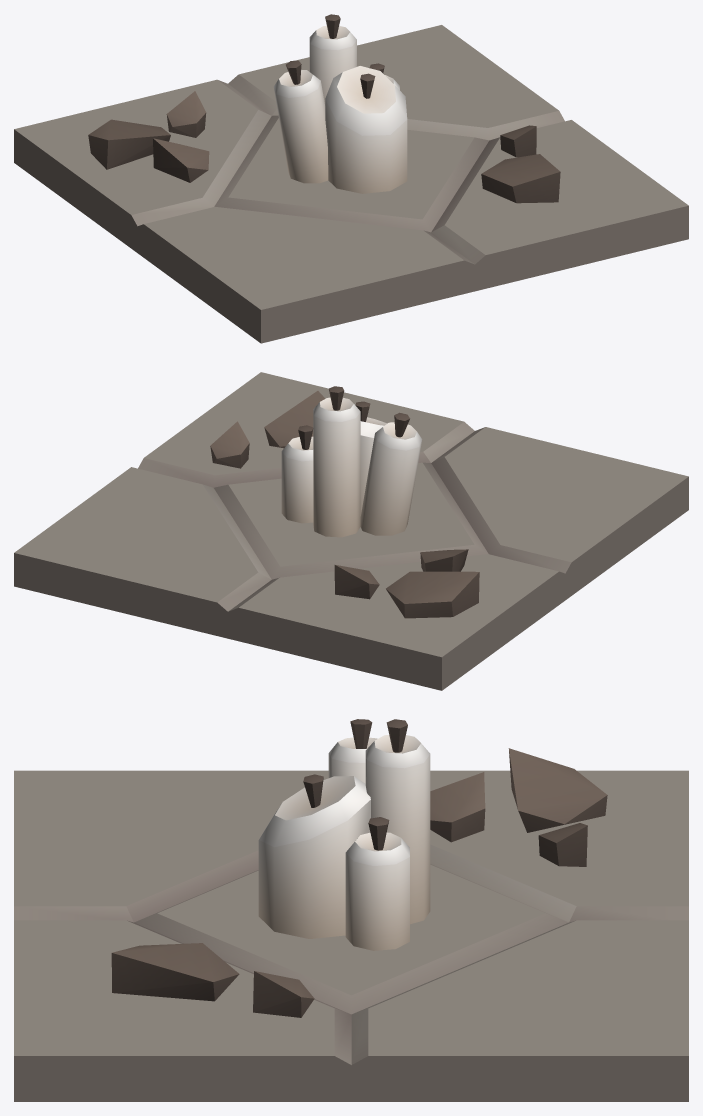
Rendered from floor_deco.fbx.
The picture shows the model from 3 angles, top to bottom: view 1: azimuth 30°, elevation 25°; view 2: azimuth 150°, elevation 25°; view 3: azimuth 270°, elevation 25°; orthographic projection. The views are drawn at different scales.
Parts seen in each view (by area): view 1: floor_tile_small_decorated; view 2: floor_tile_small_decorated; view 3: floor_tile_small_decorated.
Part boxes in pixels (box(x1,y1,x2,y2)): floor_tile_small_decorated: box(14, 14, 688, 343); floor_tile_small_decorated: box(14, 372, 688, 690); floor_tile_small_decorated: box(14, 719, 688, 1101).
Bounding box in the file's own units: 200 × 77.3 × 200.
Materials: 1 (1 with a texture image).
